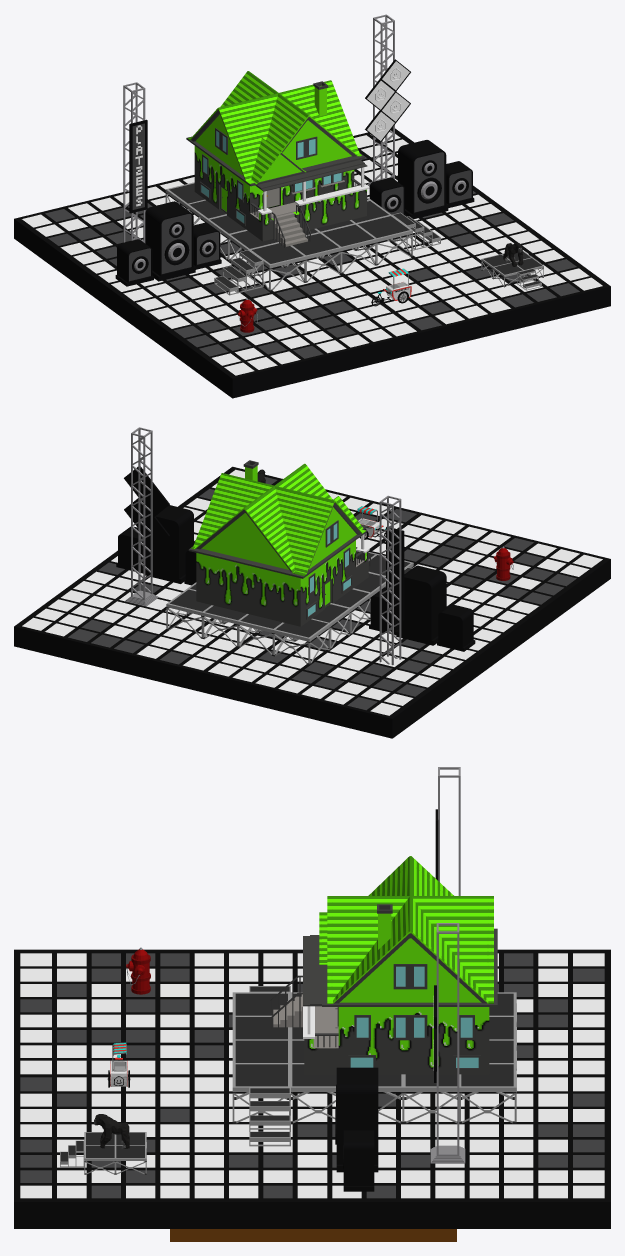
The picture shows the model from 3 angles, top to bottom: view 1: azimuth 30°, elevation 25°; view 2: azimuth 150°, elevation 25°; view 3: azimuth 270°, elevation 25°; orthographic projection. The views are drawn at different scales.
Parts seen in each view (by area): view 1: Cube.008, Cube.754, VEHICLES_SNOWBAL_BIKE; view 2: Cube.008, Cube.754, OBJRANDOM_FIRE_HYDRANT, VEHICLES_SNOWBAL_BIKE; view 3: Cube.008, Cube.754, UNDERGROUND_ART_PIECE_VAN_GOGH, OBJRANDOM_FIRE_HYDRANT, VEHICLES_SNOWBAL_BIKE, ANIMAL_GORILA.
Boxes of the visible parts, x1,y1,x2,y2 form: Cube.008: (14, 14, 610, 398); Cube.754: (186, 71, 369, 247); VEHICLES_SNOWBAL_BIKE: (371, 268, 411, 306); Cube.008: (14, 427, 610, 738); Cube.754: (188, 460, 370, 626); OBJRANDOM_FIRE_HYDRANT: (493, 546, 513, 580); VEHICLES_SNOWBAL_BIKE: (357, 506, 385, 540); Cube.008: (14, 767, 610, 1228); Cube.754: (270, 856, 497, 1074); UNDERGROUND_ART_PIECE_VAN_GOGH: (170, 1229, 456, 1241); OBJRANDOM_FIRE_HYDRANT: (126, 947, 150, 994); VEHICLES_SNOWBAL_BIKE: (107, 1042, 130, 1087); ANIMAL_GORILA: (94, 1114, 129, 1148).
Bounding box in the file's own units: 4000 × 2098 × 4000.
Materials: 35 (3 with a texture image).
